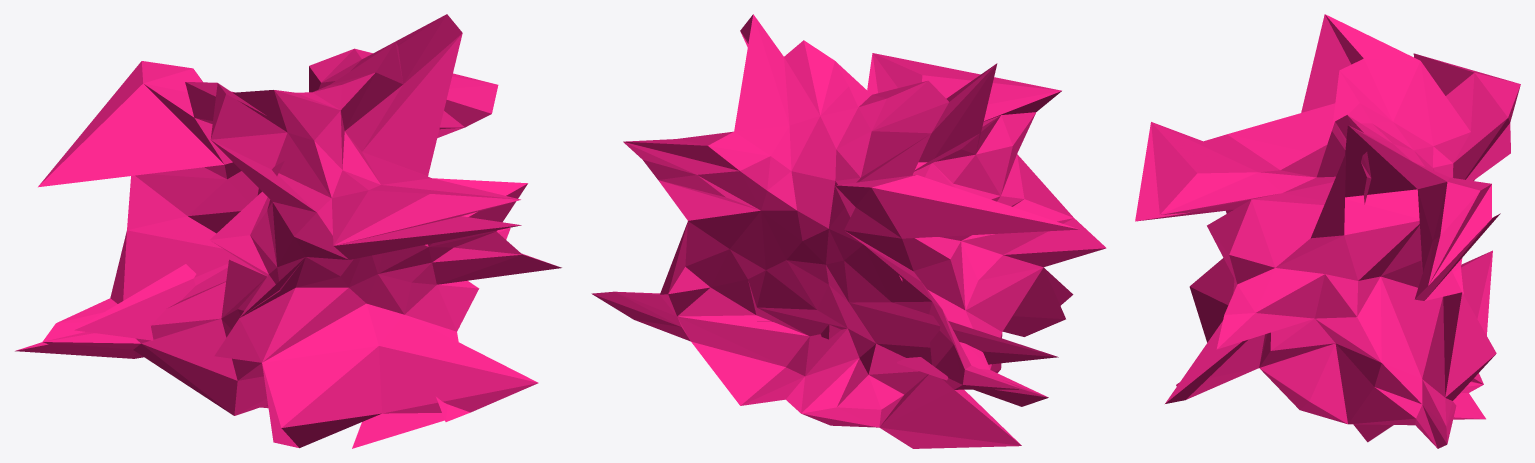
Rendered from pinkStoneGlobal.glb.
The picture shows the model from 3 angles, left to right: view 1: azimuth 30°, elevation 25°; view 2: azimuth 150°, elevation 25°; view 3: azimuth 270°, elevation 25°; orthographic projection. The views are drawn at different scales.
Visible parts, largest first — view 1: Skin 1; view 2: Skin 1; view 3: Skin 1.
Part boxes in pixels (box(x1,y1,x2,y2)): Skin 1: box(15, 14, 561, 448); Skin 1: box(591, 14, 1106, 448); Skin 1: box(1135, 14, 1520, 448).
Bounding box in the file's own units: 7.6 × 5.53 × 5.46.
